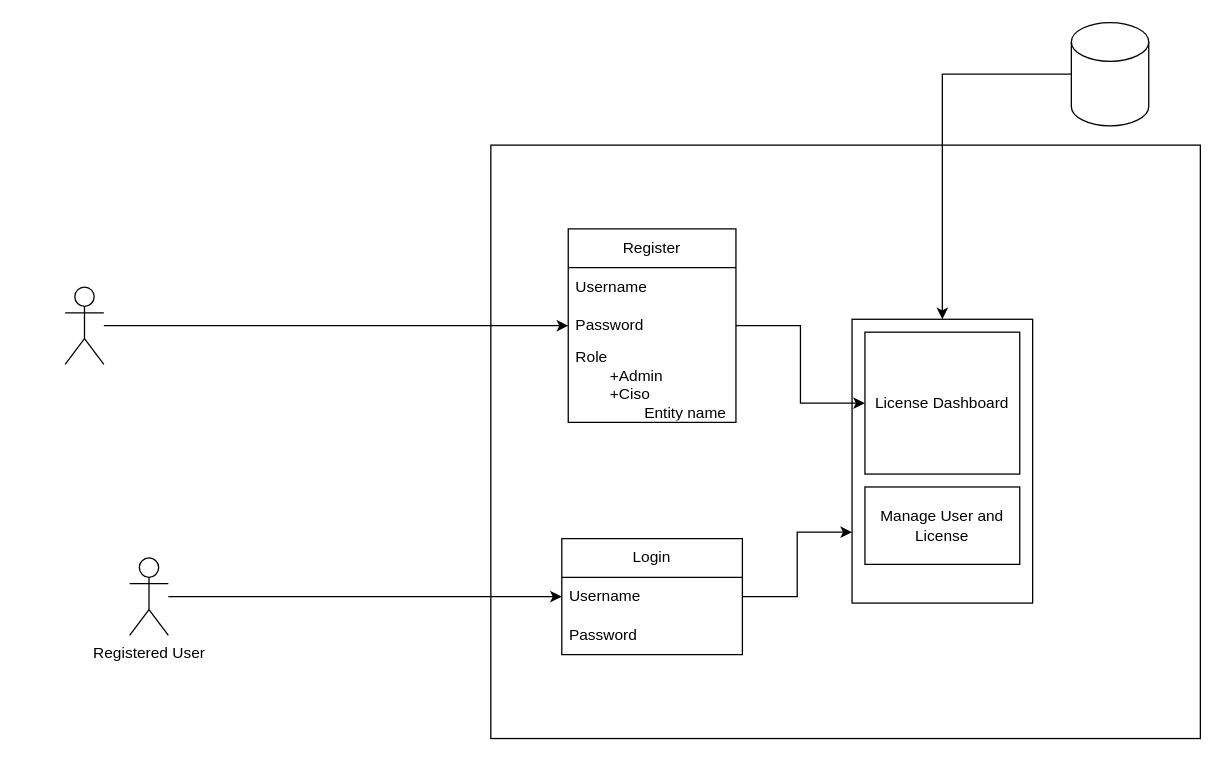
Image size: 1223x761. Some labels were removed from this diagram. The box of each missing label's shape, as (x1, y1, x2, y2) in pixels:
Database: (1070, 21, 1149, 126)
Unregistered User: (64, 286, 104, 364)
